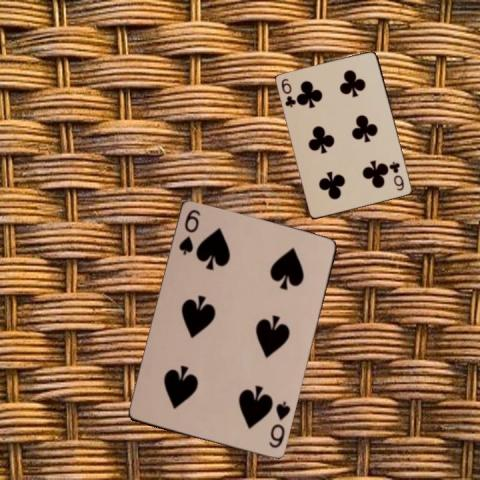6c: (279, 75, 297, 109), (388, 159, 406, 192)
6s: (266, 399, 292, 450), (176, 207, 202, 257)
